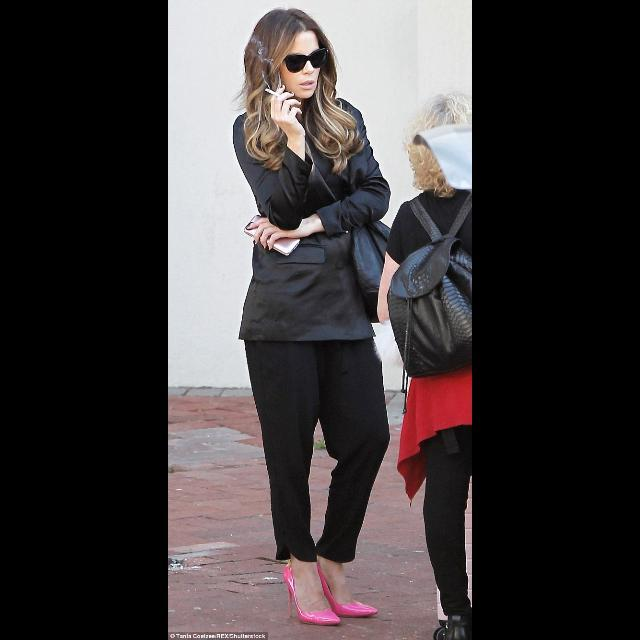rokok: (264, 87, 280, 95)
